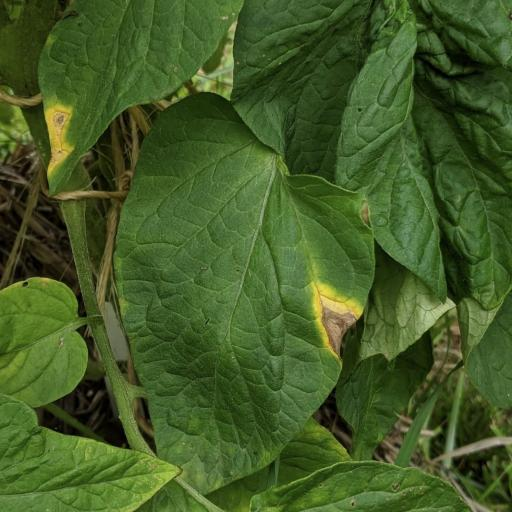Early Blight: (112, 89, 374, 493)
